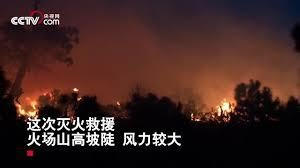fire: (212, 94, 236, 120), (16, 92, 40, 118)
